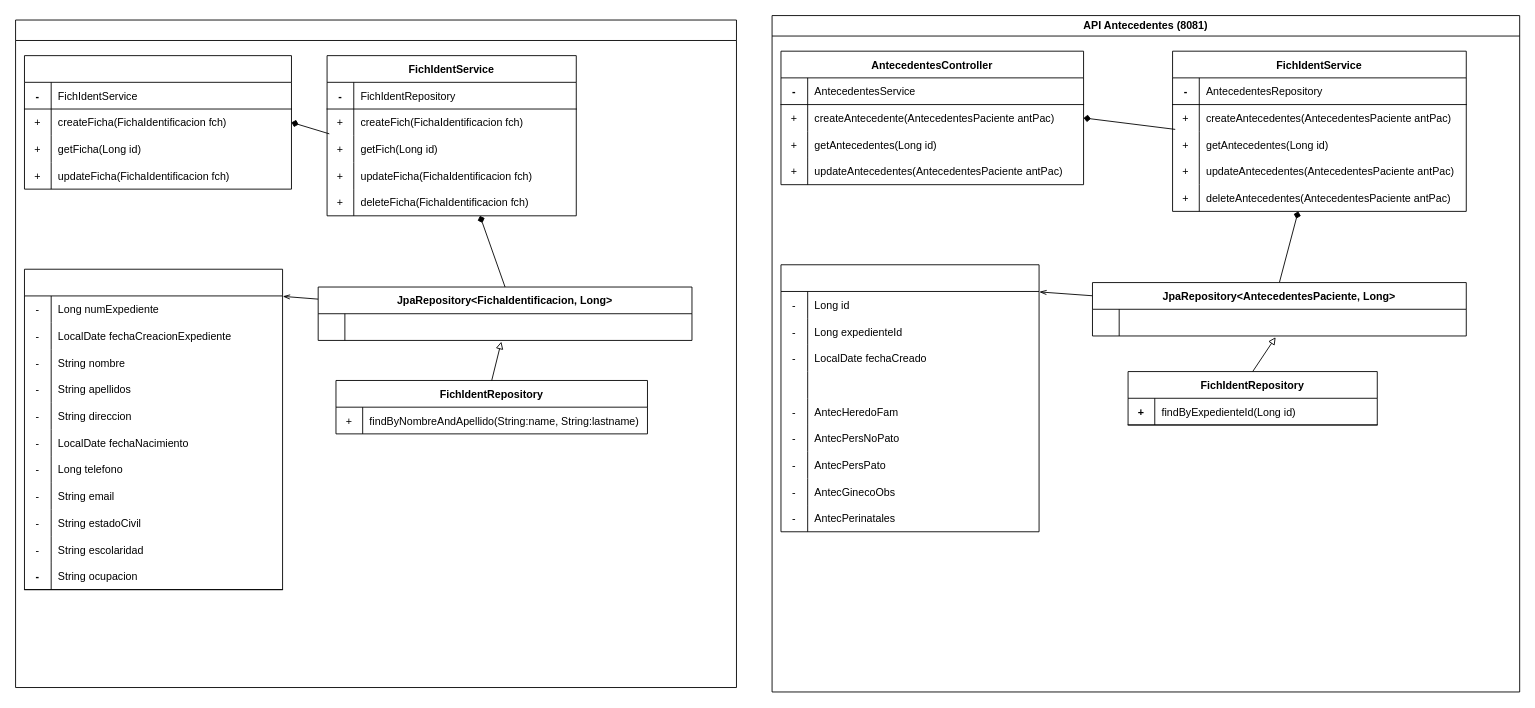
This 1535x708 diagram has some shape labels left out. The box of each missing label's shape, as (x1, y1, x2, y2) in pixels:
AntecedentesPaciente: (780, 264, 1039, 532)
API administrativo (8080): (15, 19, 736, 688)
FichaIdentificacion: (24, 268, 283, 590)
FichIdentController: (24, 55, 291, 189)
